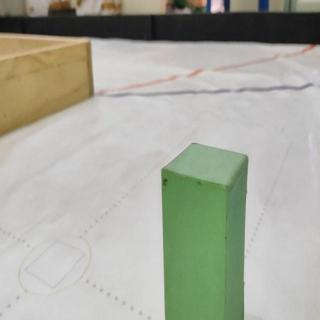greenbox: (159, 139, 250, 320)
